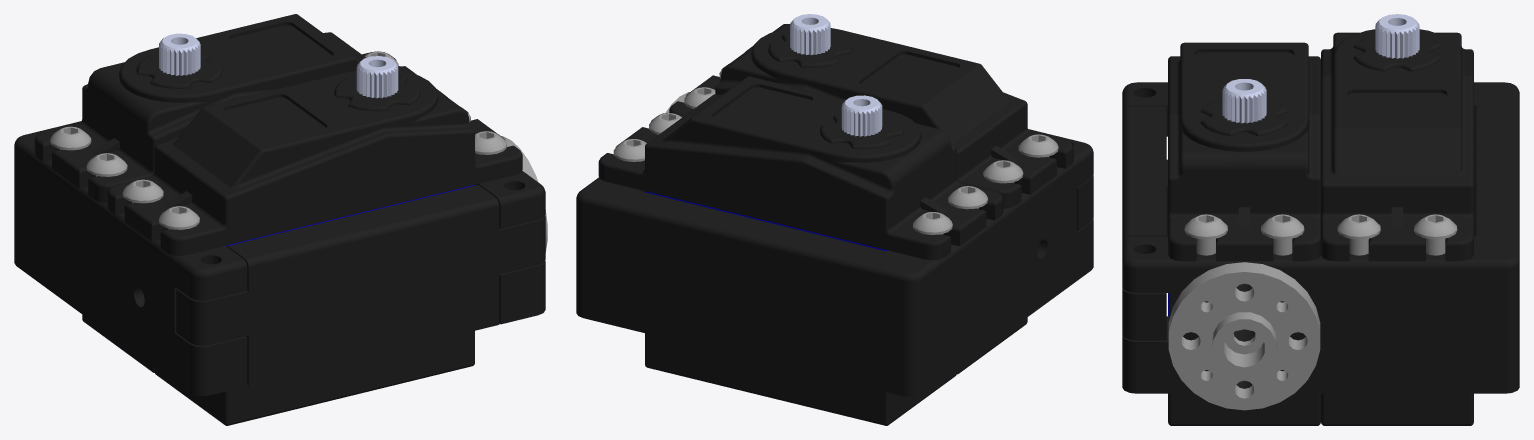
The model's file is rf_shoulder.obj.
3 views of the same model, side by side, from view 1: azimuth 30°, elevation 25°; view 2: azimuth 150°, elevation 25°; view 3: azimuth 270°, elevation 25° (orthographic). The views are drawn at different scales.
Visible parts, largest first — view 1: Body4, Body7, Body6, Body4:1, Body2, Body3, Body3:1, Body1:4, Body1:3, Body1:5, Body1:2, Body1:6 (+1 smaller); view 2: Body6, Body4:1, Body4, Body2:1, Body3:1, Body3, Body7, Body1:2, Body1:3, Body1:4, Body1:5, Body1:9 (+1 smaller); view 3: Body6, Body4:1, Body4, Body1:10, Body7, Body2:1, Body2, Body3:1, Body3, Body1:7, Body1:9, Body1:8 (+1 smaller).
Part boxes in pixels (x1,y1,x2,y2): Body4: (107, 66, 522, 255); Body7: (176, 185, 545, 385); Body6: (14, 121, 545, 396); Body4:1: (34, 14, 447, 202); Body2: (154, 331, 474, 425); Body3: (356, 56, 398, 98); Body3:1: (159, 33, 200, 75); Body1:4: (86, 153, 127, 176); Body1:3: (122, 179, 163, 203); Body1:5: (50, 126, 91, 150); Body1:2: (159, 206, 199, 229); Body1:6: (475, 131, 506, 154); Body6: (576, 134, 1093, 396); Body4:1: (598, 76, 1003, 260); Body4: (669, 24, 1073, 208); Body2:1: (645, 333, 956, 425); Body3:1: (841, 95, 882, 136); Body3: (790, 14, 830, 55); Body7: (1028, 129, 1093, 230); Body1:2: (1018, 134, 1058, 157); Body1:3: (983, 160, 1023, 183); Body1:4: (948, 186, 987, 209); Body1:5: (913, 212, 952, 234); Body1:9: (613, 139, 646, 161); Body6: (1122, 82, 1519, 393); Body4:1: (1321, 29, 1473, 261); Body4: (1168, 42, 1320, 261); Body1:10: (1168, 262, 1320, 410); Body7: (1122, 106, 1166, 340); Body2:1: (1321, 393, 1473, 425); Body2: (1168, 393, 1320, 425); Body3:1: (1375, 14, 1419, 58); Body3: (1222, 79, 1266, 123); Body1:7: (1261, 214, 1304, 255); Body1:9: (1414, 214, 1457, 255); Body1:8: (1337, 214, 1380, 255).
Bounding box in the file's own units: 0.0618 × 0.0445 × 0.052.
